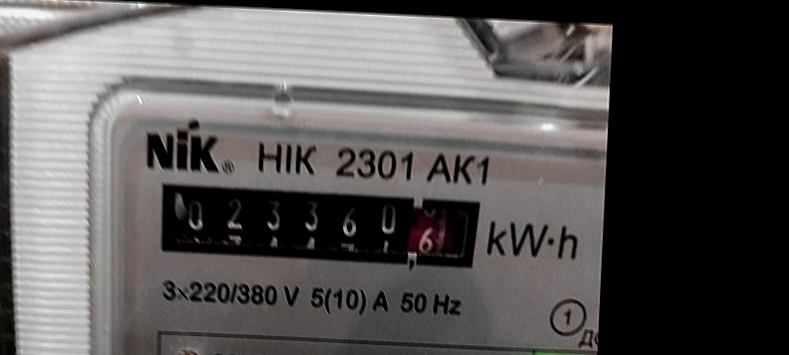0: (181, 194, 205, 230), (374, 199, 398, 235)
2: (221, 194, 244, 230)
3: (260, 196, 282, 232), (299, 197, 319, 232)
6: (336, 201, 358, 236), (414, 220, 433, 254)
screen: (142, 169, 498, 285)
